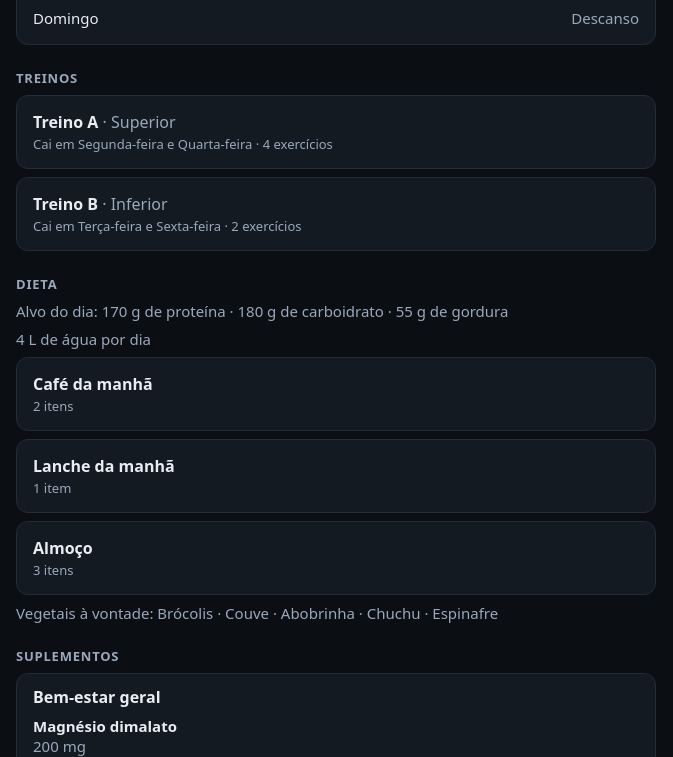
Scenario: TelaPlano › consulta ao plano completo › a dieta › a refeição abre com as alternativas e o "ou" entre elas
(page scrolled)
Click the text "Café da manhã".
click(93, 384)  # box [33, 373, 153, 395]
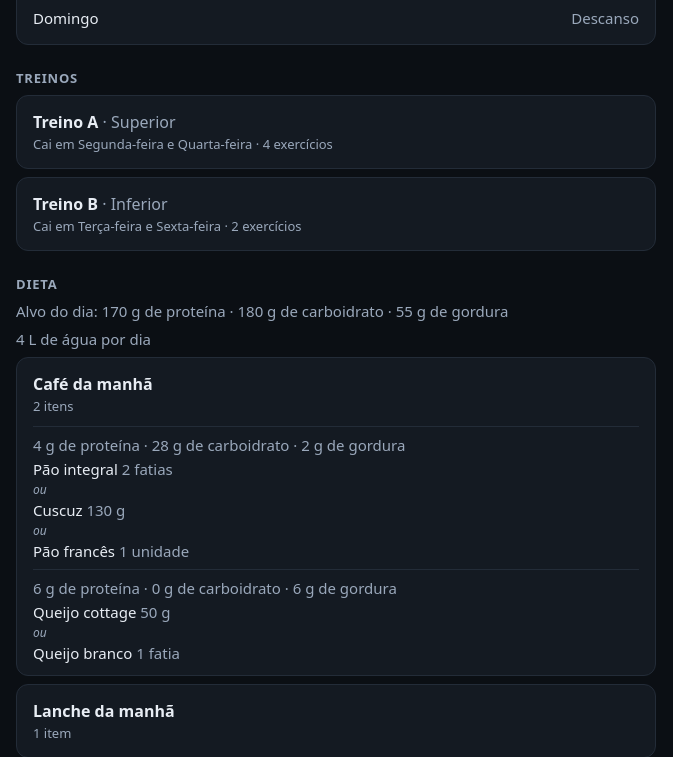
Check: the list item "4 g de proteína · 28 g de carboidrato · 2 g de gordura" shows "Pão integral", box [33, 459, 118, 479]
Check: the list item "4 g de proteína · 28 g de carboidrato · 2 g de gordura" shows "2 fatias", box [122, 459, 173, 479]
Check: the list item "4 g de proteína · 28 g de carboidrato · 2 g de gordura" shows "ou", box [33, 481, 47, 498]
